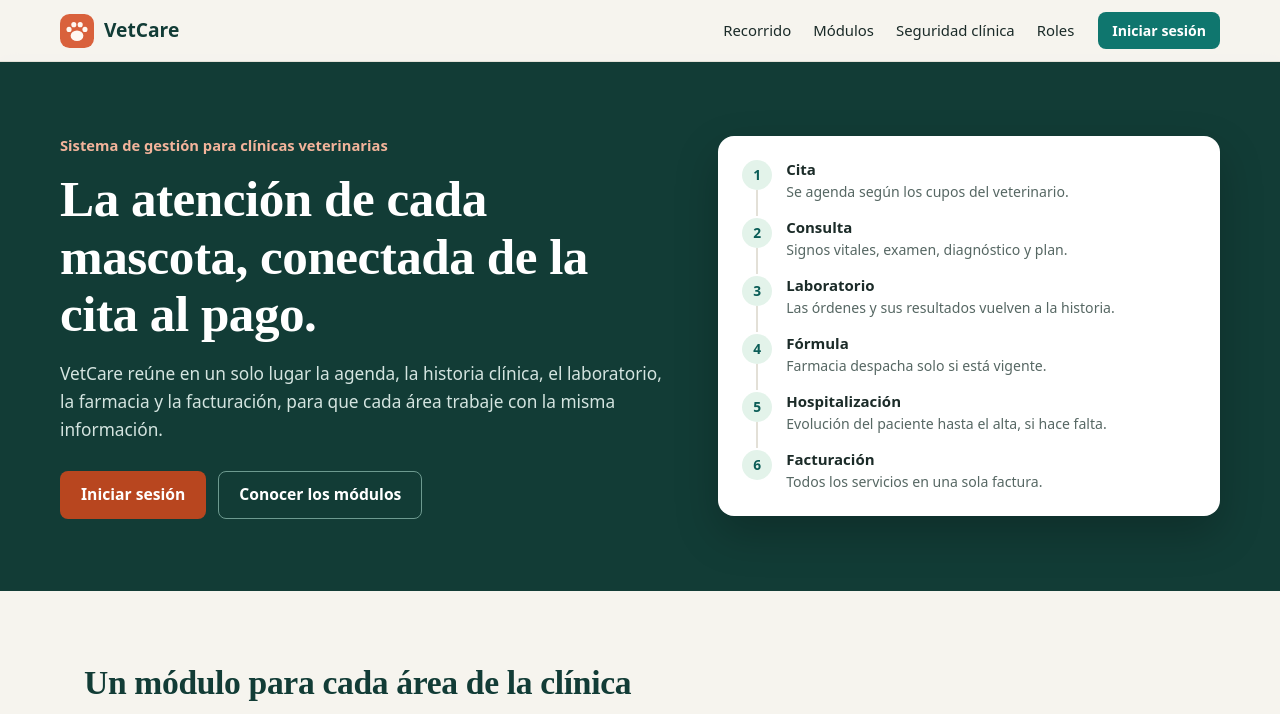
Scenario: Navegación sin sesión › va del inicio al acceso y regresa
This screenshot has width=1280, height=714.
Click the link "Iniciar sesión" in the row of "Seguridad clínica".
click(1159, 31)  # box [1098,12,1220,49]
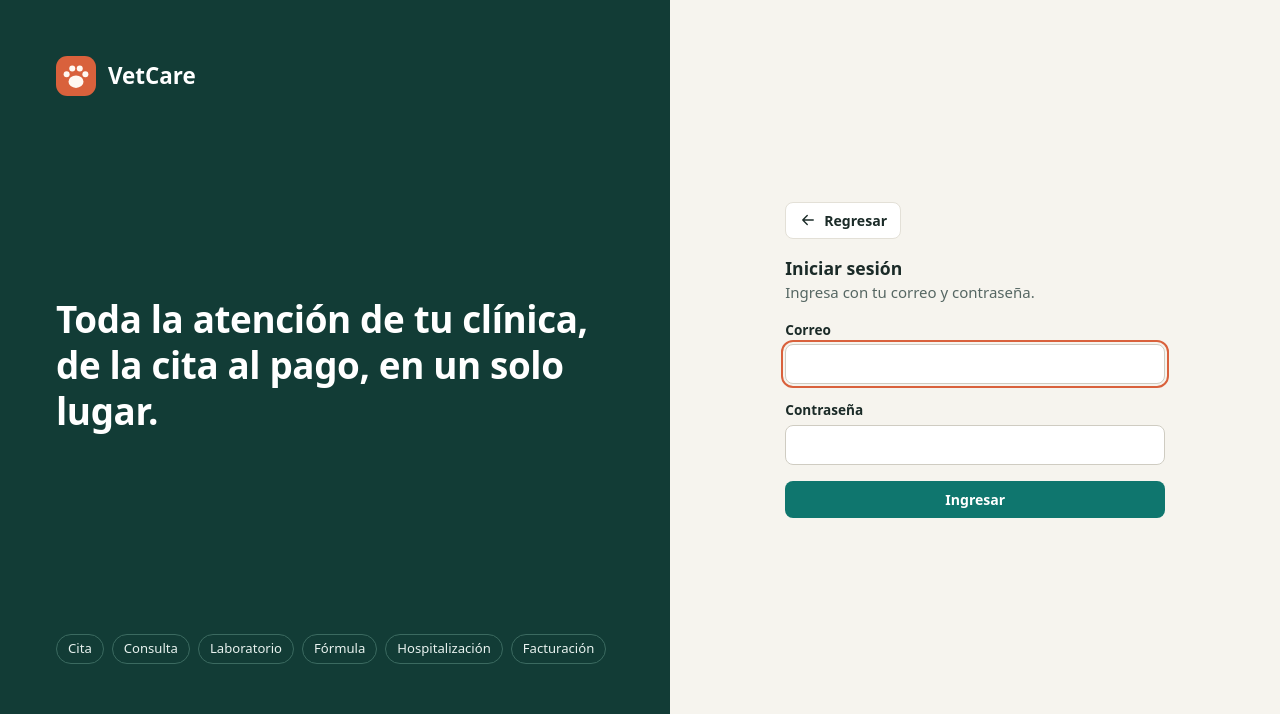
Result: the password field labelled "Contraseña" is shown at [785,425,1165,465]
Click the button "Regresar".
click(843, 220)  # box [785,202,901,239]
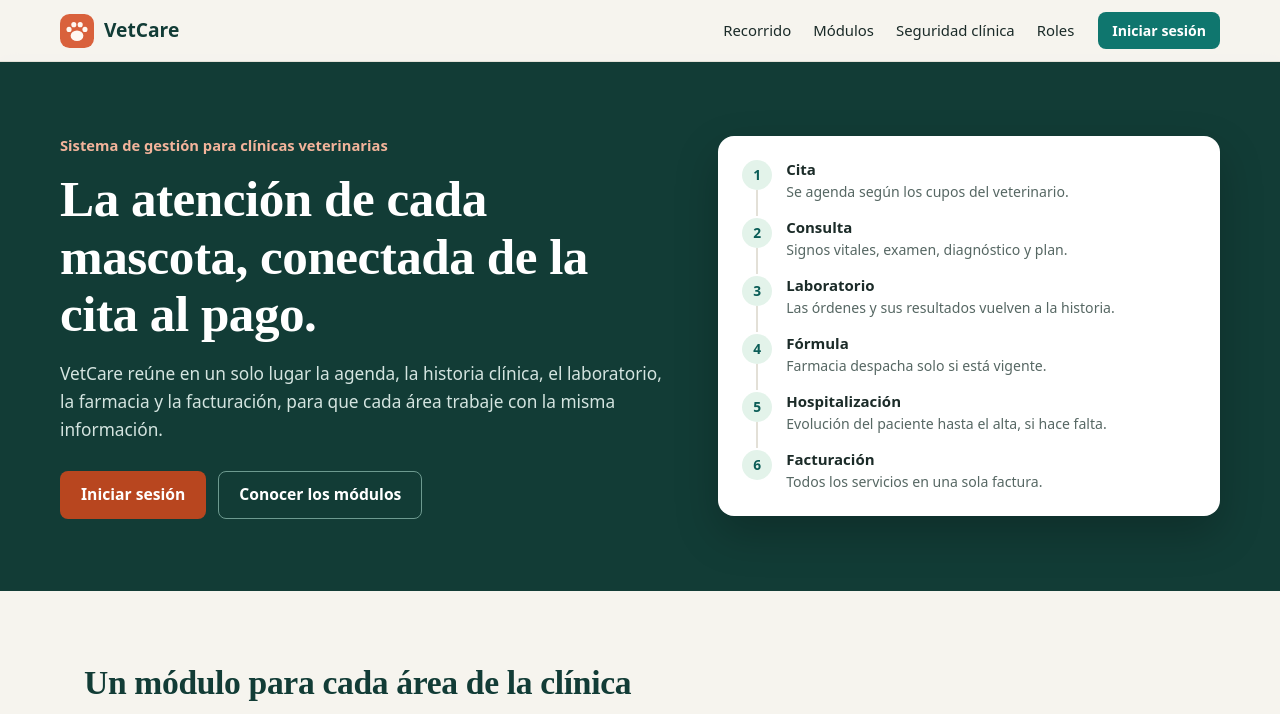
Expected: the field labelled "Contraseña" is not shown
Result: the heading "La atención de cada mascota, conectada de la cita al pago." is shown at [60,170,662,342]
